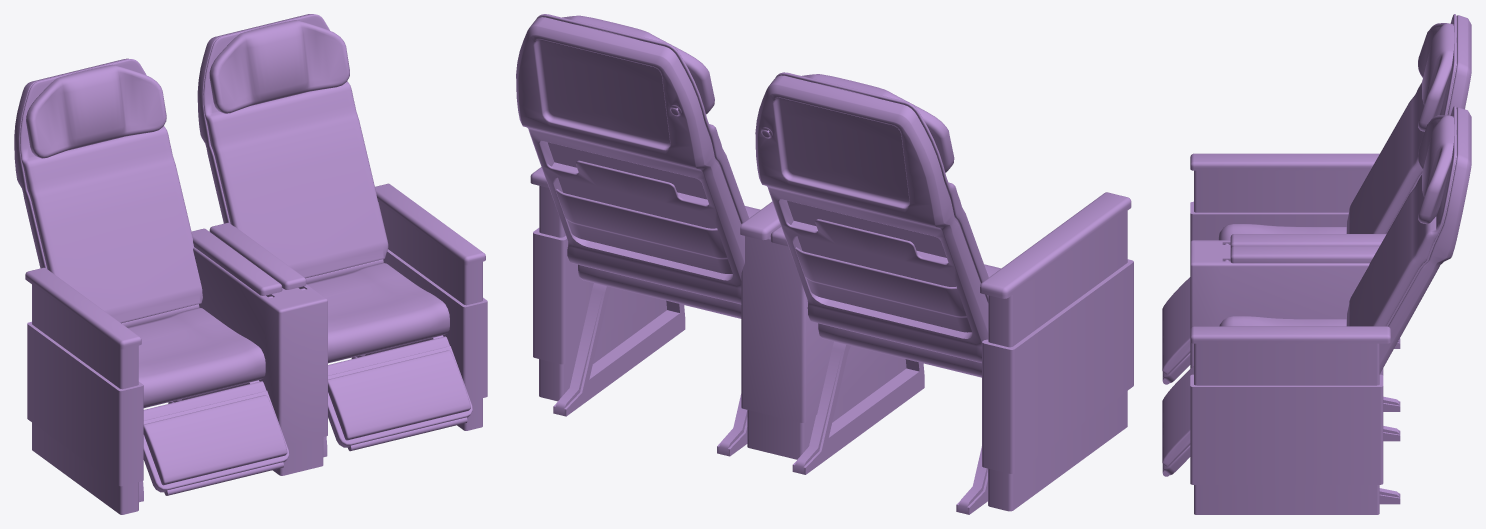
File: CC_Seat.fbx
3 views of the same model, side by side, from view 1: azimuth 30°, elevation 25°; view 2: azimuth 150°, elevation 25°; view 3: azimuth 270°, elevation 25° (orthographic). The views are drawn at different scales.
Visible parts, largest first — view 1: Comfort_seat, Back_2_11, Back_1_11, Legrest_1_11, Legrest_1_2_12, t_armrest_1_11, t_armrest_2_11; view 2: Comfort_seat, Back_1_11, Back_2_11, t_armrest_2_11; view 3: Comfort_seat, Back_2_11, Back_1_11, t_armrest_2_11, Legrest_1_2_12, Legrest_1_11, t_armrest_1_11.
Boxes of the visible parts, x1,y1,x2,y2 form: Comfort_seat: [25, 183, 487, 514]; Back_2_11: [197, 14, 388, 283]; Back_1_11: [14, 58, 202, 327]; Legrest_1_11: [143, 381, 289, 495]; Legrest_1_2_12: [328, 336, 472, 451]; t_armrest_1_11: [191, 228, 282, 295]; t_armrest_2_11: [209, 222, 306, 289]; Comfort_seat: [530, 167, 1133, 514]; Back_1_11: [755, 72, 988, 362]; Back_2_11: [516, 14, 748, 304]; t_armrest_2_11: [740, 201, 780, 240]; Comfort_seat: [1190, 153, 1400, 514]; Back_2_11: [1346, 106, 1471, 373]; Back_1_11: [1346, 14, 1471, 233]; t_armrest_2_11: [1230, 246, 1379, 263]; Legrest_1_2_12: [1162, 366, 1193, 476]; Legrest_1_11: [1162, 277, 1190, 384]; t_armrest_1_11: [1230, 234, 1386, 248].
Bounding box in the file's own units: 149 × 129 × 105.
